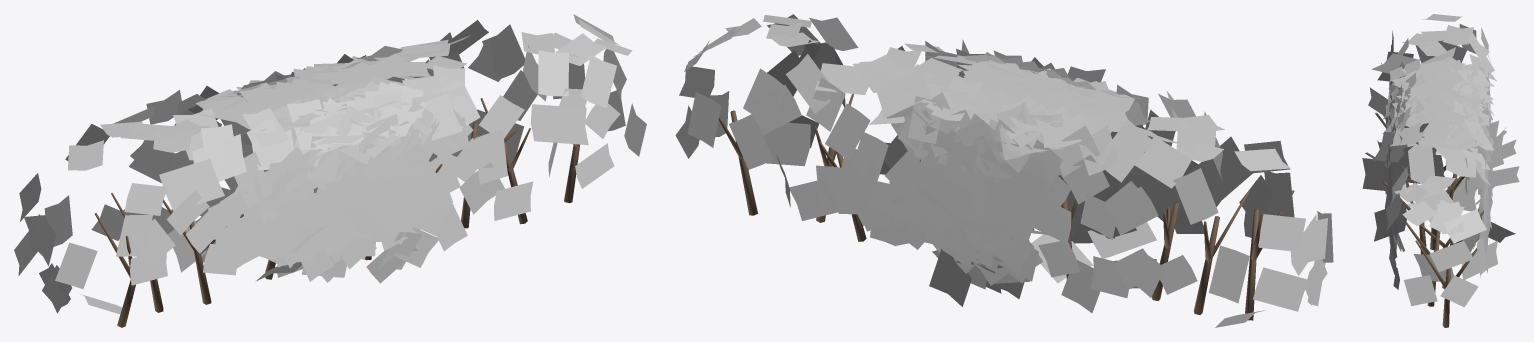
The model's file is hedge_row.glb.
3 renders of one model, left to right at view 1: azimuth 30°, elevation 25°; view 2: azimuth 150°, elevation 25°; view 3: azimuth 270°, elevation 25°, orthographic. The views are drawn at different scales.
Parts seen in each view (by area): view 1: hedge_row; view 2: hedge_row; view 3: hedge_row.
Part boxes in pixels (<box>): hedge_row: <box>14,14,646,327</box>; hedge_row: <box>675,14,1333,327</box>; hedge_row: <box>1362,14,1519,327</box>.
Bounding box in the file's own units: 6.75 × 2.15 × 2.01.
